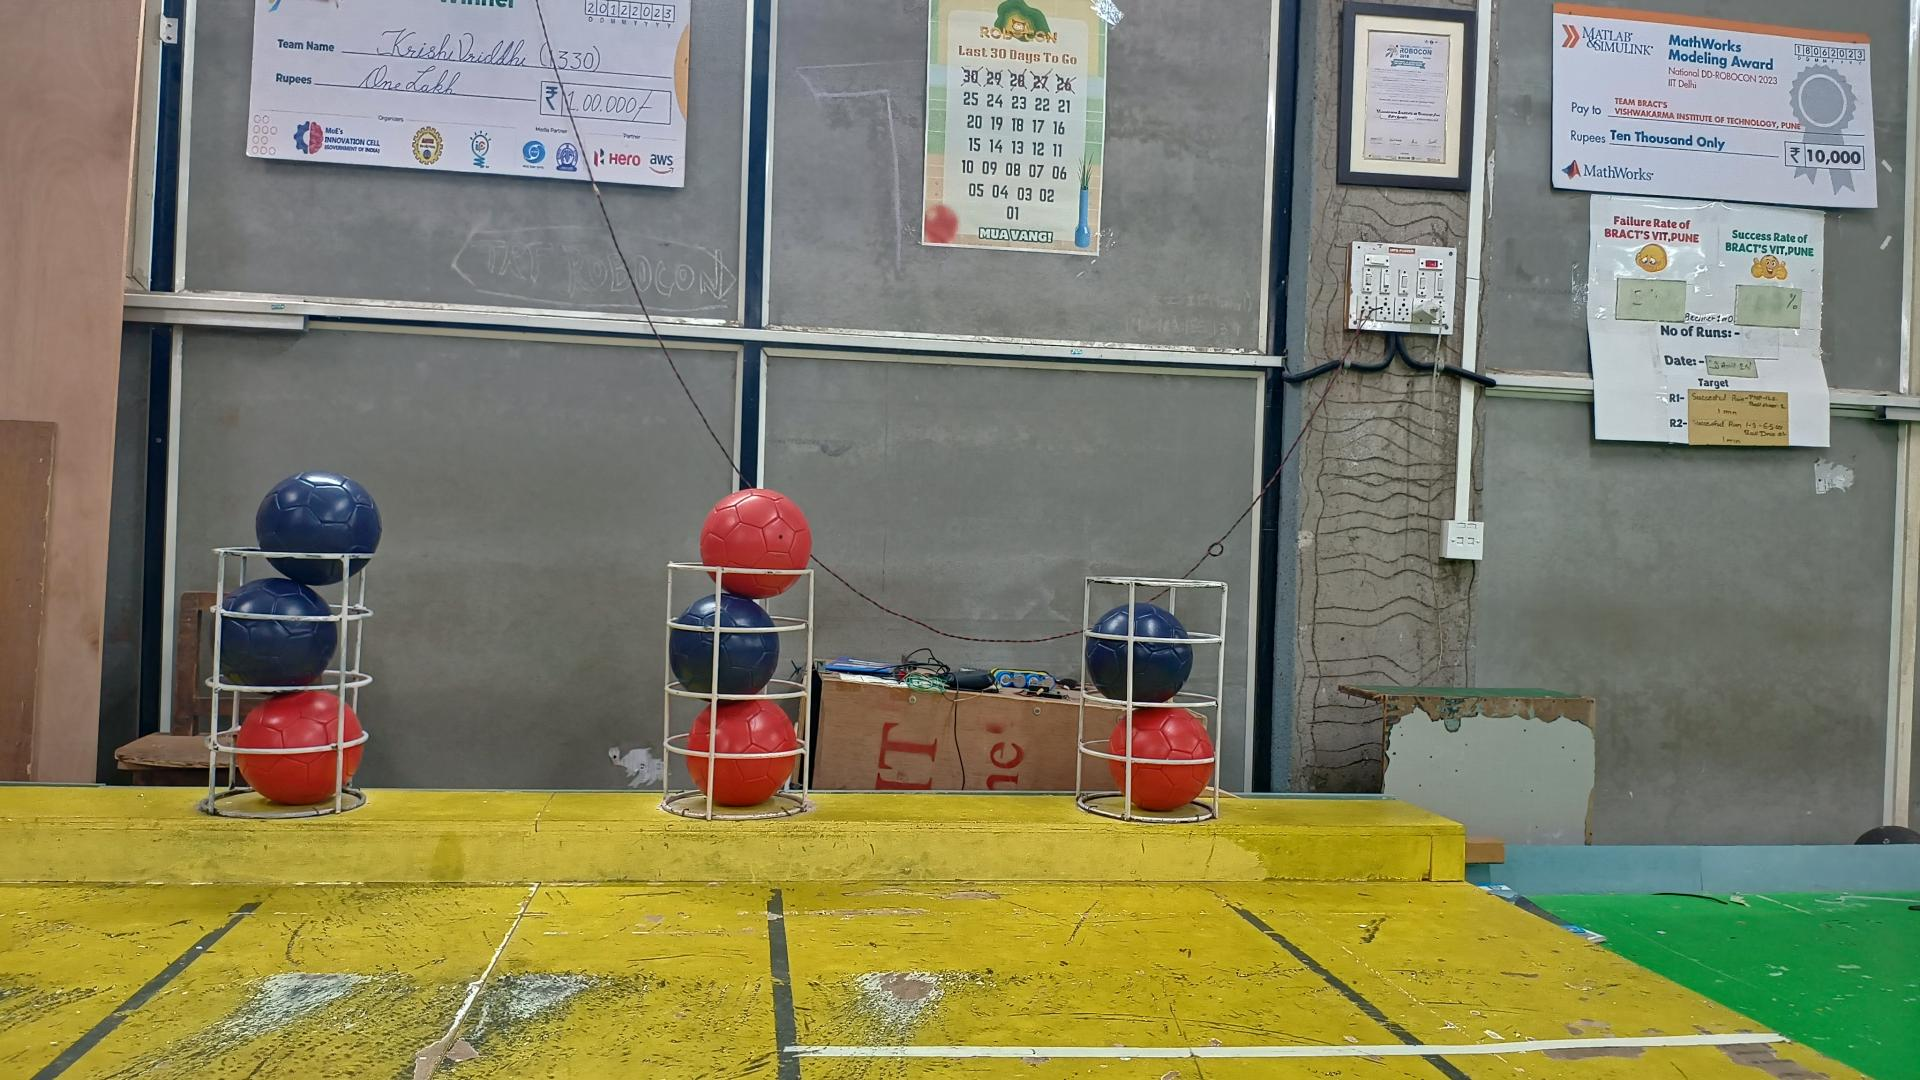dhoka: (255, 472, 382, 585), (210, 578, 338, 686), (667, 592, 781, 698), (1084, 600, 1192, 702)
laale: (236, 690, 364, 806), (686, 698, 799, 806), (702, 488, 810, 600), (1110, 705, 1215, 810)
